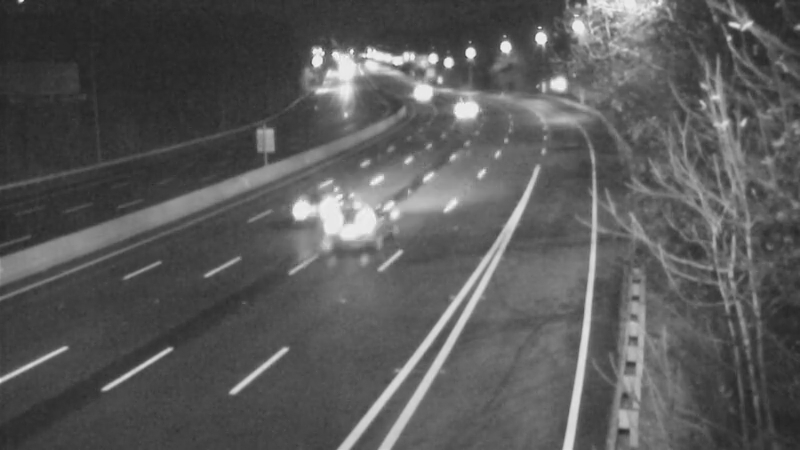vehicle: (280, 160, 360, 240), (309, 194, 389, 274), (391, 65, 441, 115), (434, 84, 484, 134)
